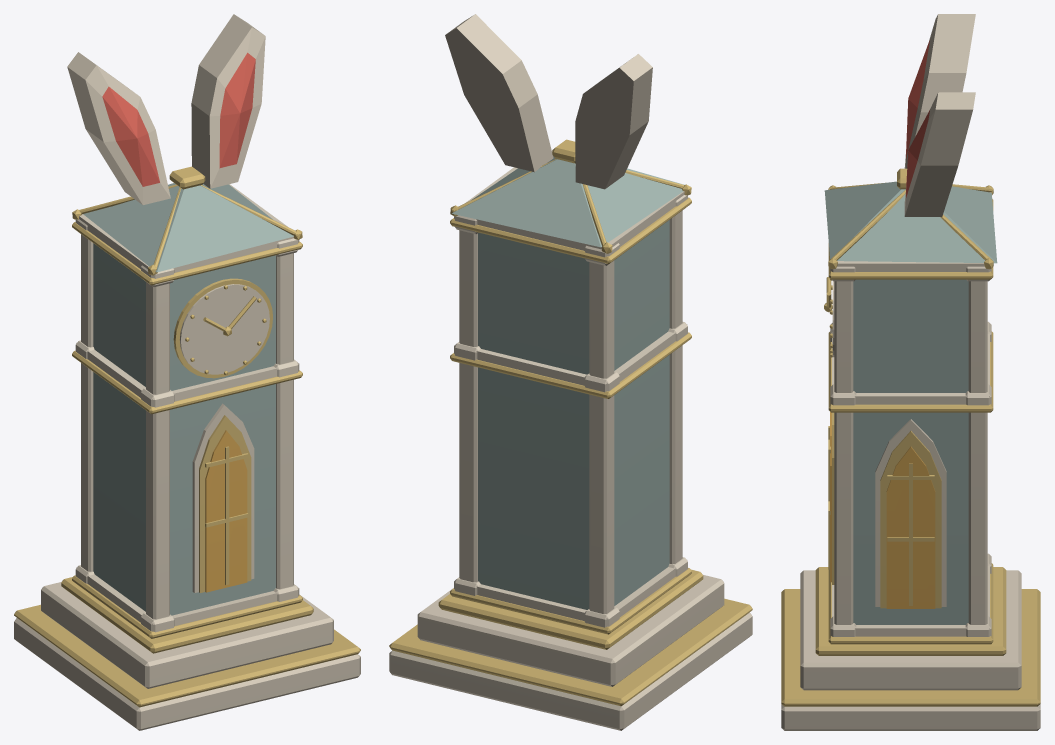
The model's file is clock-tower.glb.
3 renders of one model, left to right at view 1: azimuth 30°, elevation 25°; view 2: azimuth 150°, elevation 25°; view 3: azimuth 270°, elevation 25°, orthographic. The views are drawn at different scales.
Visible parts, largest first — view 1: root_mesh, ears1_mesh, ears0_mesh; view 2: root_mesh, ears1_mesh, ears0_mesh; view 3: root_mesh, ears1_mesh, ears0_mesh.
Part boxes in pixels (x1=…): root_mesh: x1=14, y1=166, x2=360, y2=730; ears1_mesh: x1=191, y1=14, x2=265, y2=188; ears0_mesh: x1=67, y1=52, x2=170, y2=204; root_mesh: x1=389, y1=139, x2=752, y2=730; ears1_mesh: x1=445, y1=14, x2=553, y2=172; ears0_mesh: x1=575, y1=54, x2=652, y2=189; root_mesh: x1=781, y1=168, x2=1040, y2=730; ears1_mesh: x1=904, y1=92, x2=975, y2=216; ears0_mesh: x1=904, y1=14, x2=975, y2=168.
Bounding box in the file's own units: 3.5 × 9 × 3.4.
